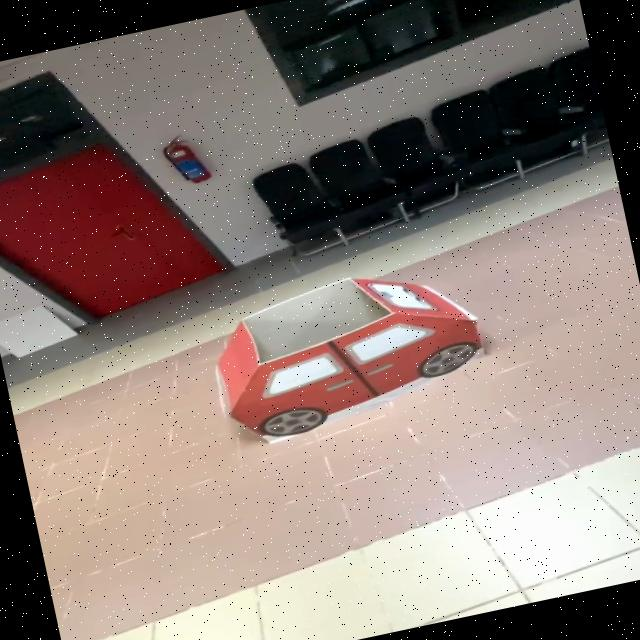red_car: (181, 236, 533, 472)
